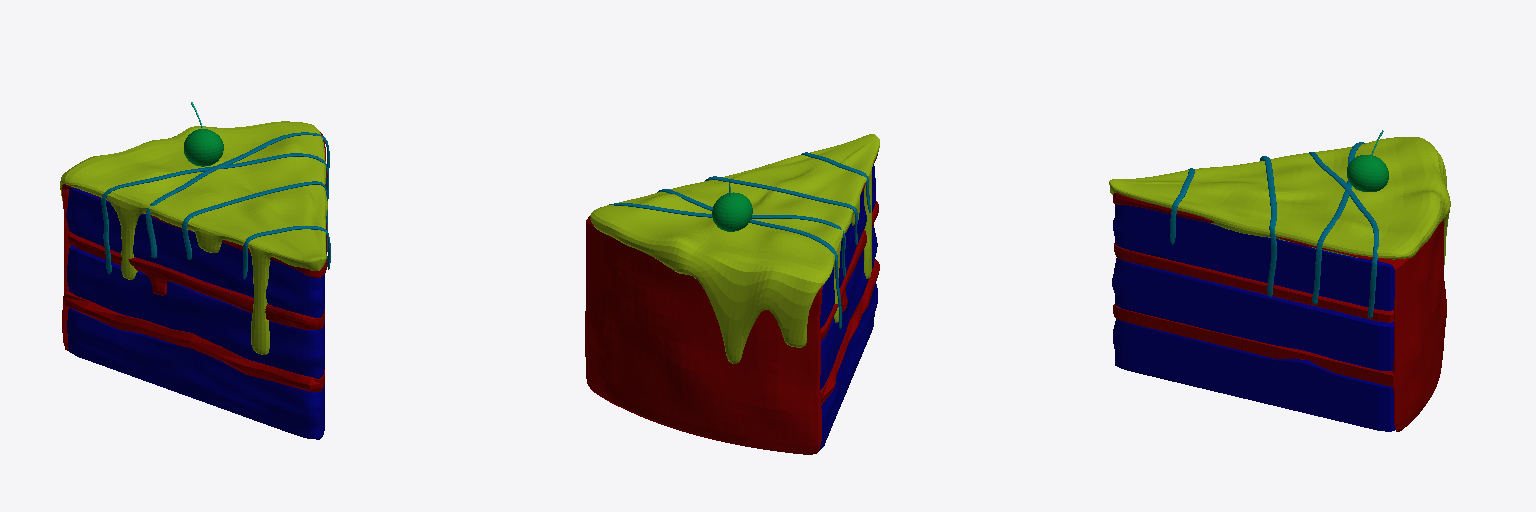
File: chocolateCake.obj
3 views of the same model, side by side, from view 1: azimuth 30°, elevation 25°; view 2: azimuth 150°, elevation 25°; view 3: azimuth 270°, elevation 25° (orthographic).
Parts seen in each view (by area): view 1: Object001; view 2: Object001; view 3: Object001.
Part boxes in pixels (x1,y1,x2,y2): Object001: (60, 102, 330, 439); Object001: (585, 134, 879, 454); Object001: (1109, 130, 1450, 431).
Size of the model in its own units: 0.4908 by 0.4471 by 0.5789.